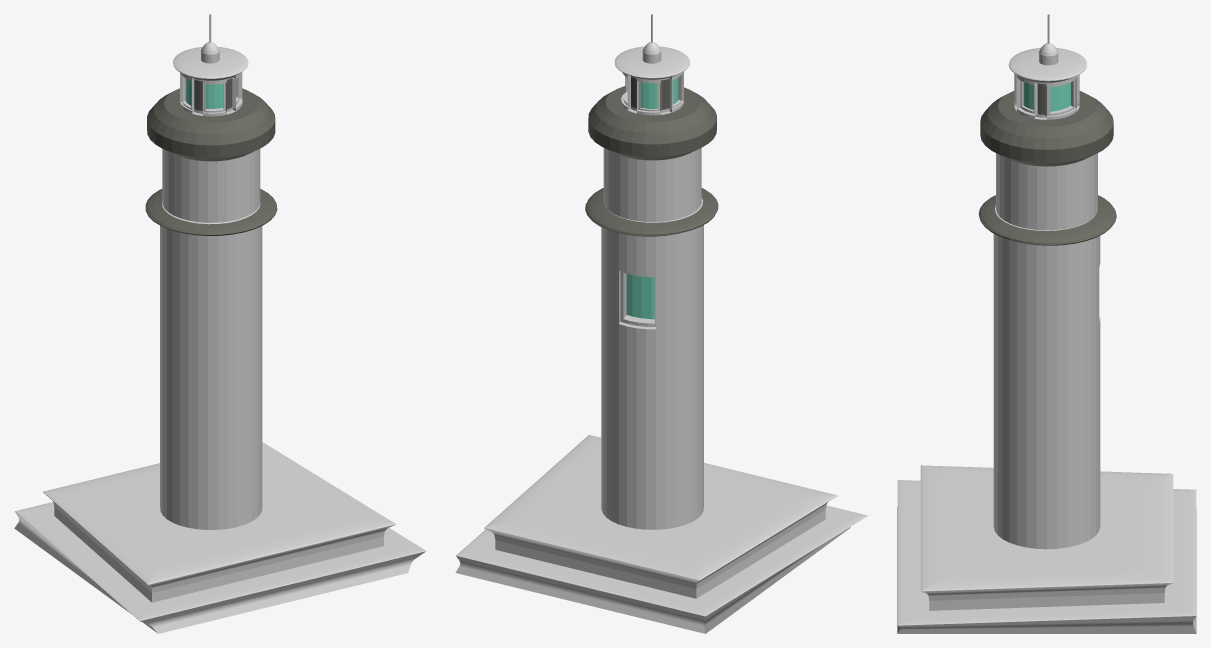
The model's file is Colombo Lighthouse.fbx.
3 renders of one model, left to right at view 1: azimuth 30°, elevation 25°; view 2: azimuth 150°, elevation 25°; view 3: azimuth 270°, elevation 25°, orthographic. The views are drawn at different scales.
Visible parts, largest first — view 1: Cube; view 2: Cube; view 3: Cube.
Boxes of the visible parts, box(x1,y1,x2,y2) form: Cube: box(14, 14, 426, 633); Cube: box(455, 14, 868, 633); Cube: box(897, 14, 1196, 633).
Bounding box in the file's own units: 647 × 1154 × 563.
